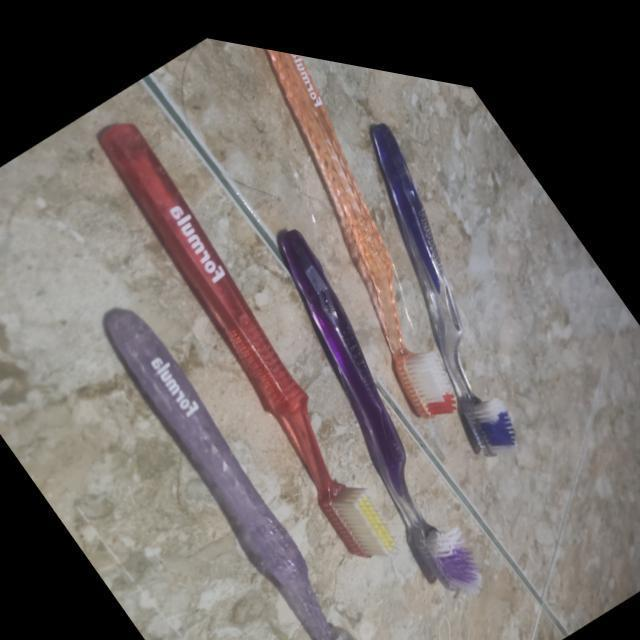toothbrush: (35, 74, 448, 596), (157, 23, 543, 449), (270, 51, 634, 490), (188, 170, 544, 618), (54, 262, 446, 640)
